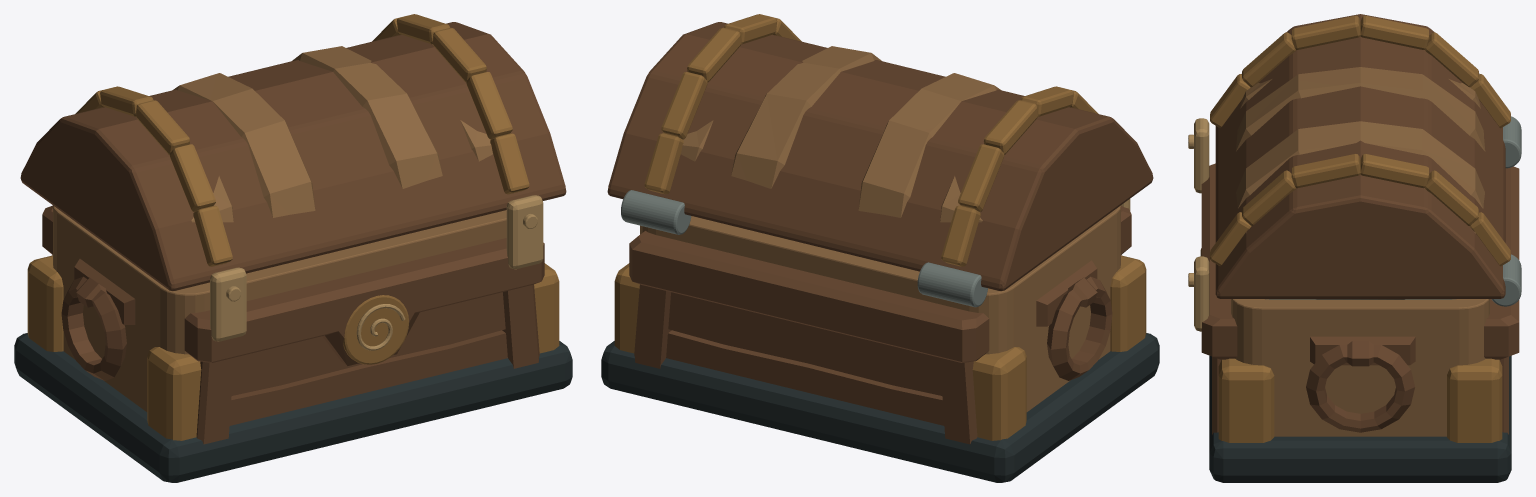
File: FERNSTONE_CACHE.hi.glb
3 renders of one model, left to right at view 1: azimuth 30°, elevation 25°; view 2: azimuth 150°, elevation 25°; view 3: azimuth 270°, elevation 25°, orthographic. The views are drawn at different scales.
Parts seen in each view (by area): view 1: Body_Mesh, LidPivot_Mesh; view 2: Body_Mesh, LidPivot_Mesh; view 3: LidPivot_Mesh, Body_Mesh.
Boxes of the visible parts, x1=… form: Body_Mesh: x1=14, y1=195, x2=572, y2=482; LidPivot_Mesh: x1=20, y1=14, x2=566, y2=291; Body_Mesh: x1=601, y1=190, x2=1159, y2=482; LidPivot_Mesh: x1=607, y1=14, x2=1153, y2=291; LidPivot_Mesh: x1=1210, y1=14, x2=1510, y2=298; Body_Mesh: x1=1188, y1=116, x2=1521, y2=482.
Bounding box in the file's own units: 1.52 × 1.09 × 1.08.
